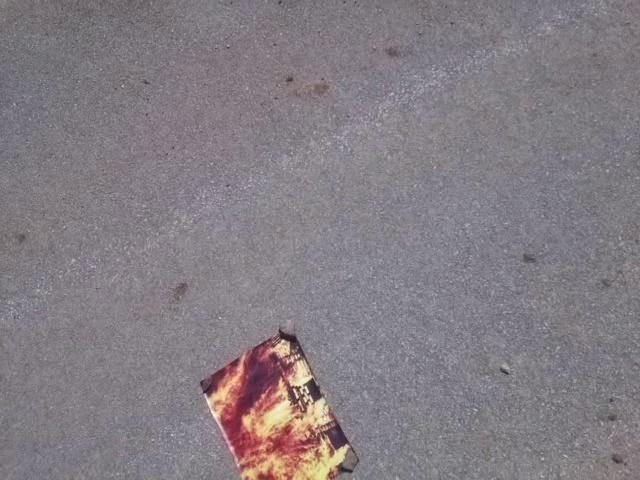fire-poster: (197, 319, 360, 479)
